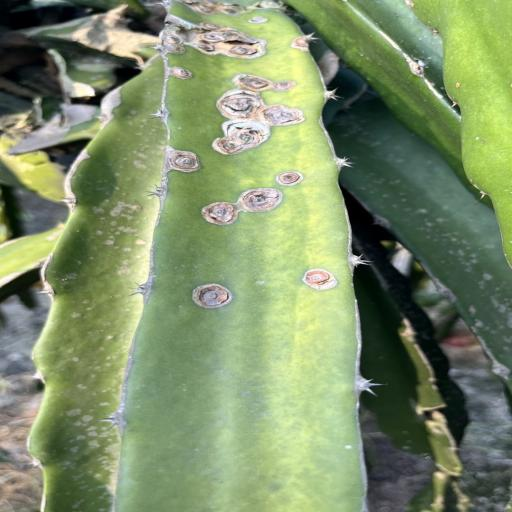stemcanker: (57, 396, 118, 481), (108, 239, 146, 284), (86, 218, 152, 240), (122, 108, 163, 140), (123, 142, 161, 175), (104, 196, 150, 220), (89, 178, 137, 198), (66, 294, 98, 322), (74, 378, 116, 394), (63, 347, 88, 369), (62, 268, 88, 286), (100, 329, 125, 344), (340, 440, 358, 456), (341, 443, 355, 452), (175, 126, 189, 134), (454, 82, 463, 90), (176, 125, 186, 132)
